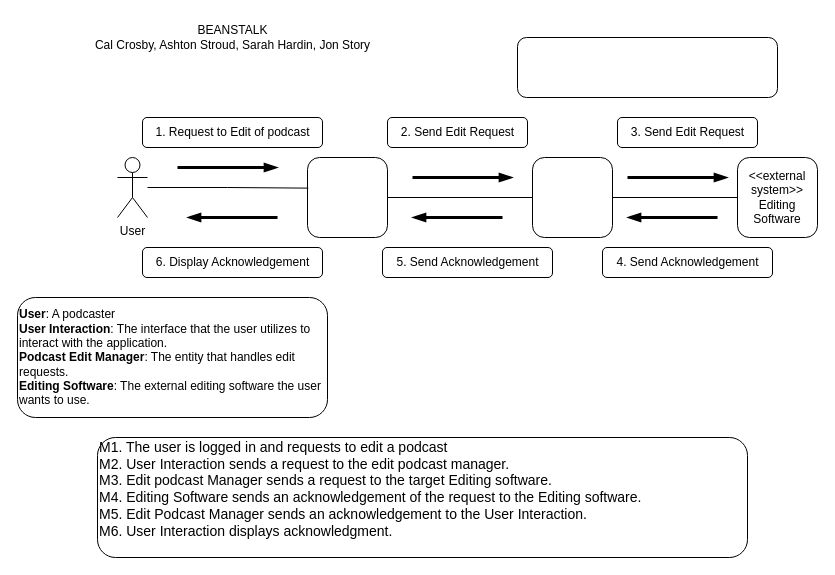
This 835x575 diagram has some shape labels left out. The centre of each missing label's shape, as x and y in pixels:
"<<entity>> Podcast Edit Manager" goes at pixel 572 197.
"<<user interaction>> User Interaction" goes at pixel 347 197.
"Edit Podcast Interaction Diagram" goes at pixel 647 67.
